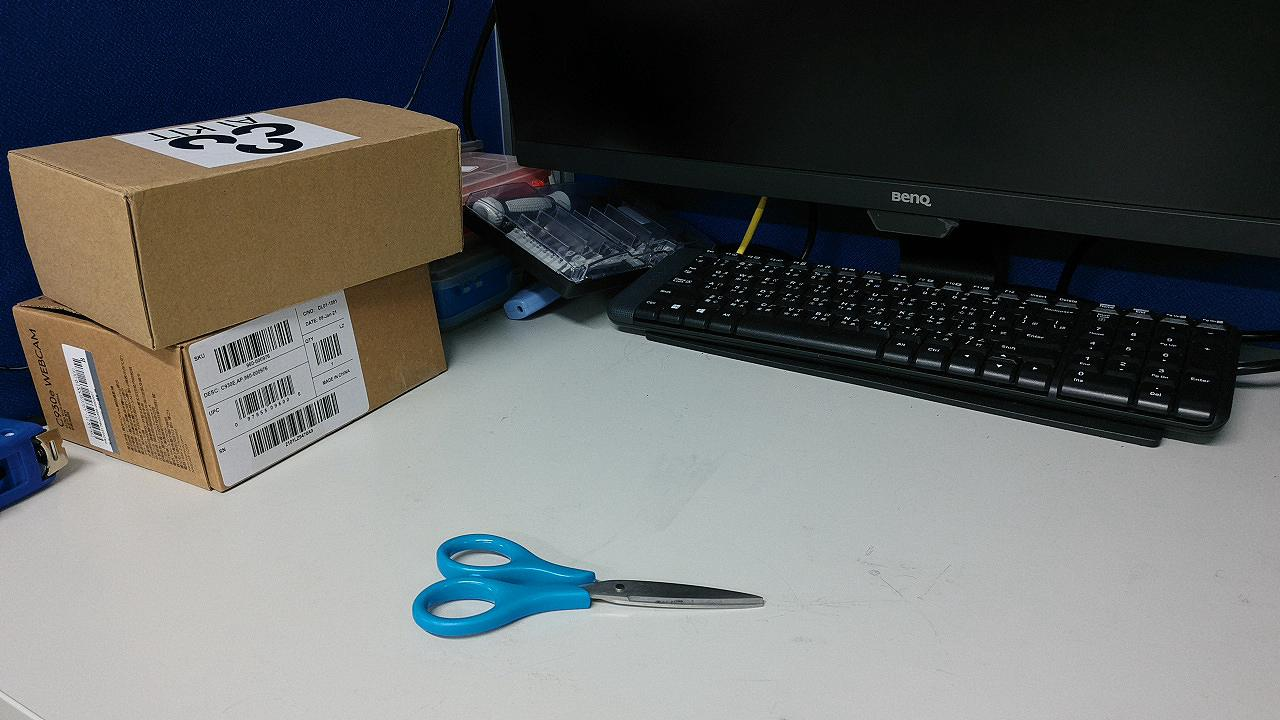columnar: (340, 243, 516, 436)
grip: (423, 314, 485, 434)
